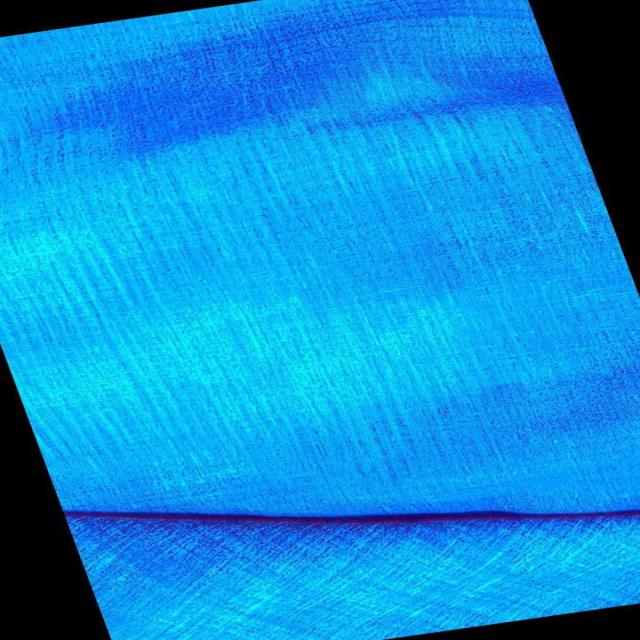baekra: (43, 342, 640, 639), (0, 0, 578, 217), (0, 173, 617, 354)
